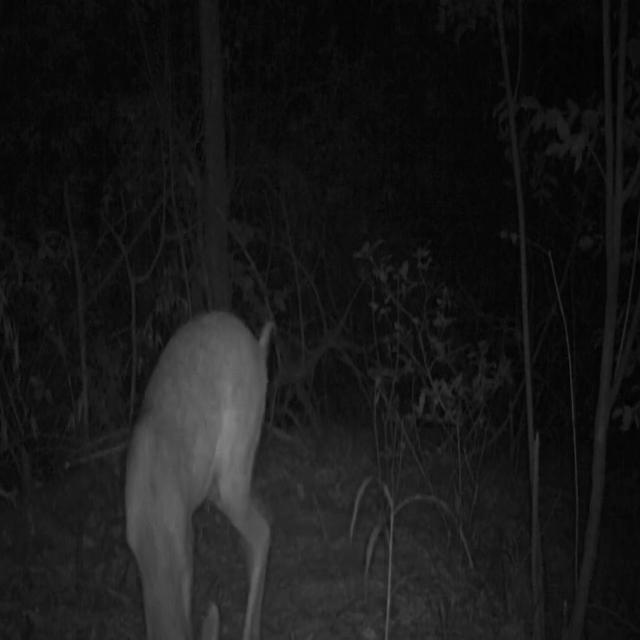elk: (94, 250, 297, 640)
